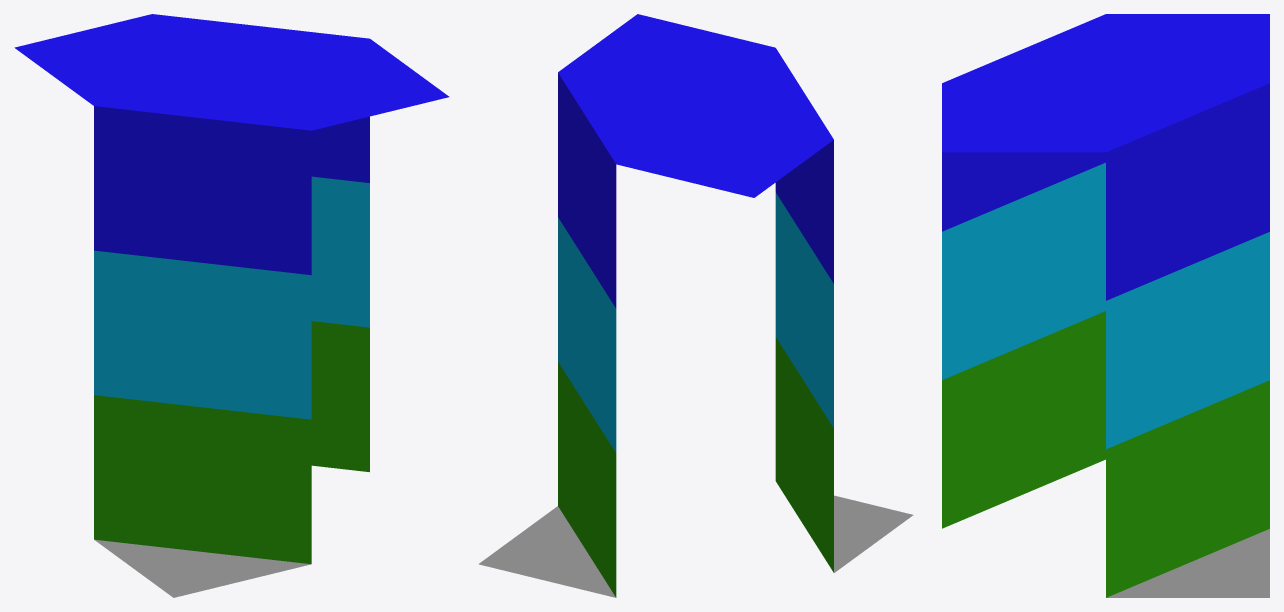
File: T_aaa_0_0.fbx
The picture shows the model from 3 angles, left to right: view 1: azimuth 30°, elevation 25°; view 2: azimuth 150°, elevation 25°; view 3: azimuth 270°, elevation 25°; orthographic projection. The views are drawn at different scales.
Parts seen in each view (by area): view 1: T_aaa_0_0; view 2: T_aaa_0_0; view 3: T_aaa_0_0.
Boxes of the visible parts, left/top/right/bottom form: T_aaa_0_0: left=14, top=14, right=449, bottom=597; T_aaa_0_0: left=478, top=14, right=913, bottom=597; T_aaa_0_0: left=942, top=14, right=1269, bottom=597.
Size of the model in its own units: 99.79 by 150 by 99.81.
